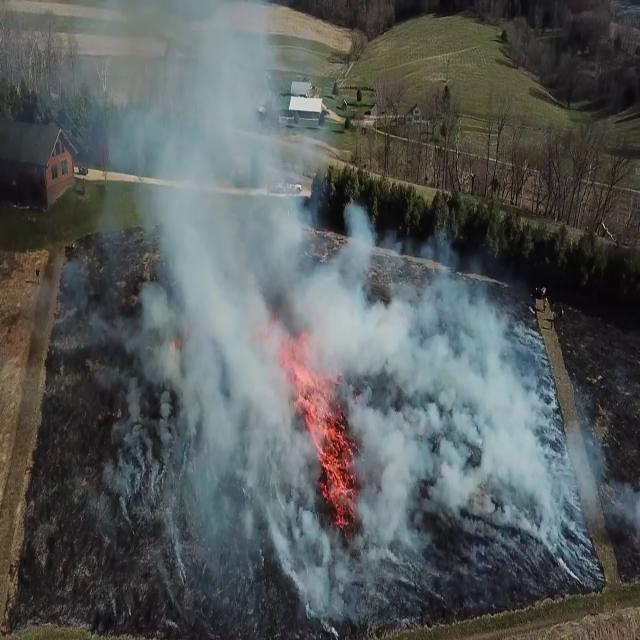Fire: (281, 327, 355, 523)
Smoke: (80, 4, 360, 622), (346, 193, 582, 621)
